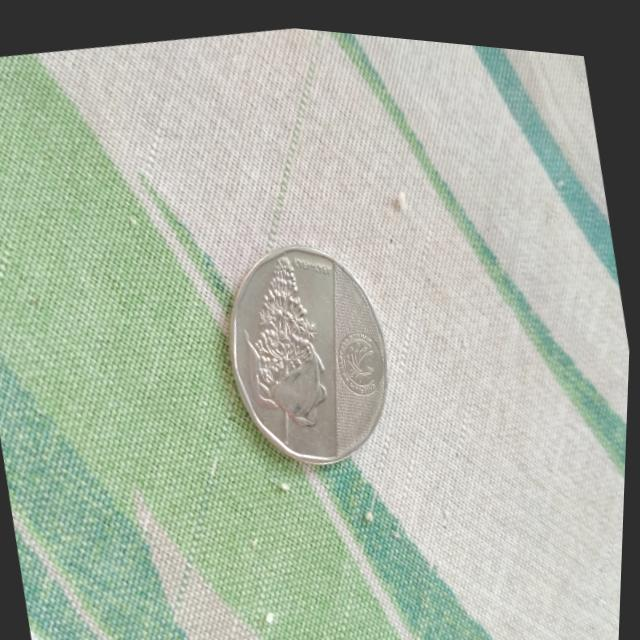10_New_Back: (222, 230, 349, 455)
